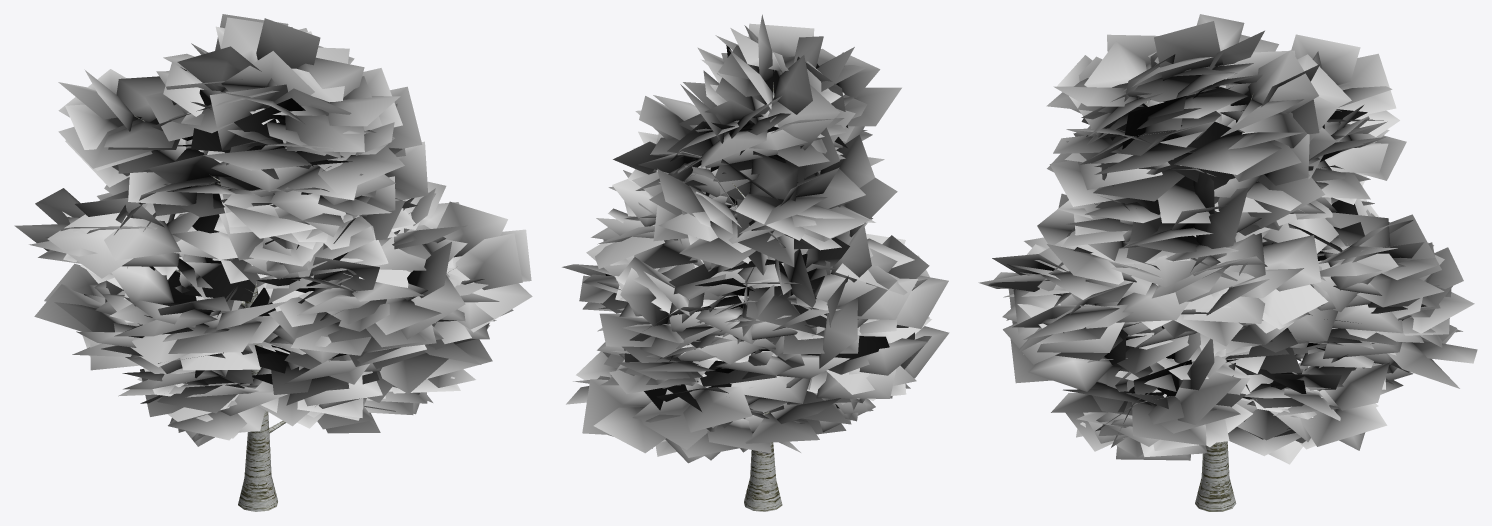
Rendered from flg_tree_03.FBX.
The picture shows the model from 3 angles, left to right: view 1: azimuth 30°, elevation 25°; view 2: azimuth 150°, elevation 25°; view 3: azimuth 270°, elevation 25°; orthographic projection. The views are drawn at different scales.
Visible parts, largest first — view 1: flg_tree_03_LOD0; view 2: flg_tree_03_LOD0; view 3: flg_tree_03_LOD0.
Part boxes in pixels (x1,y1,x2,y2): flg_tree_03_LOD0: [14, 14, 532, 511]; flg_tree_03_LOD0: [562, 14, 949, 511]; flg_tree_03_LOD0: [978, 14, 1477, 511].
Size of what is drawn, in the model's own units: 1480 by 1580 by 1696.
